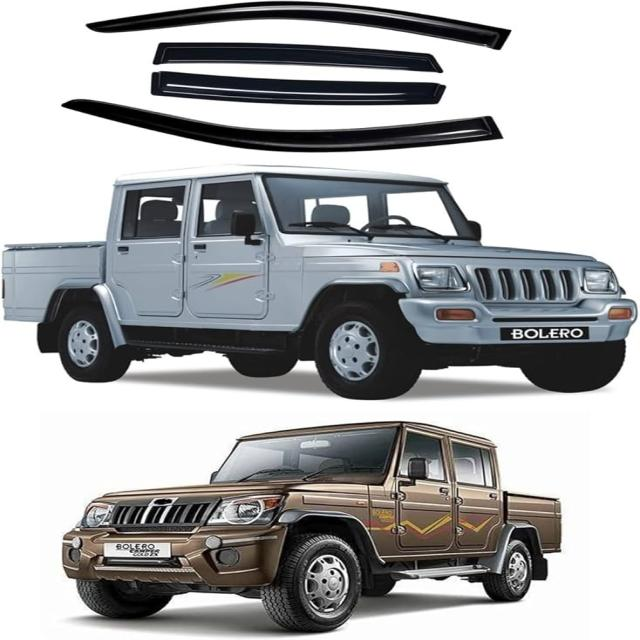light_vehicle: (0, 180, 640, 397), (49, 415, 562, 632)
